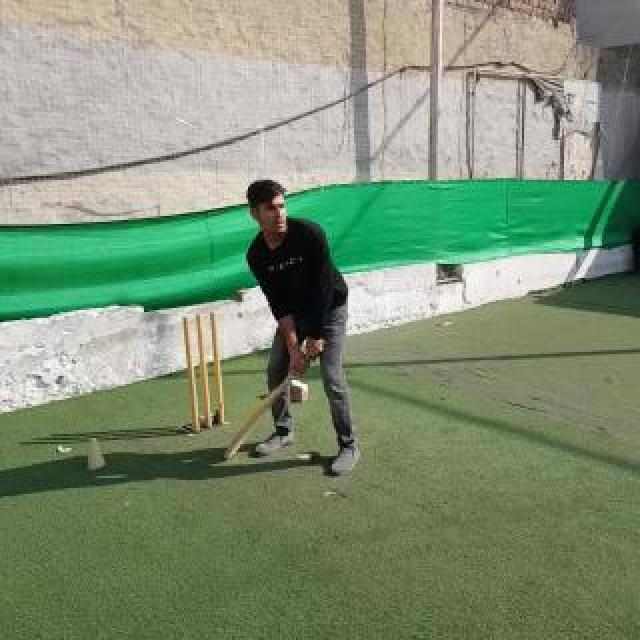bat: (224, 338, 326, 460)
